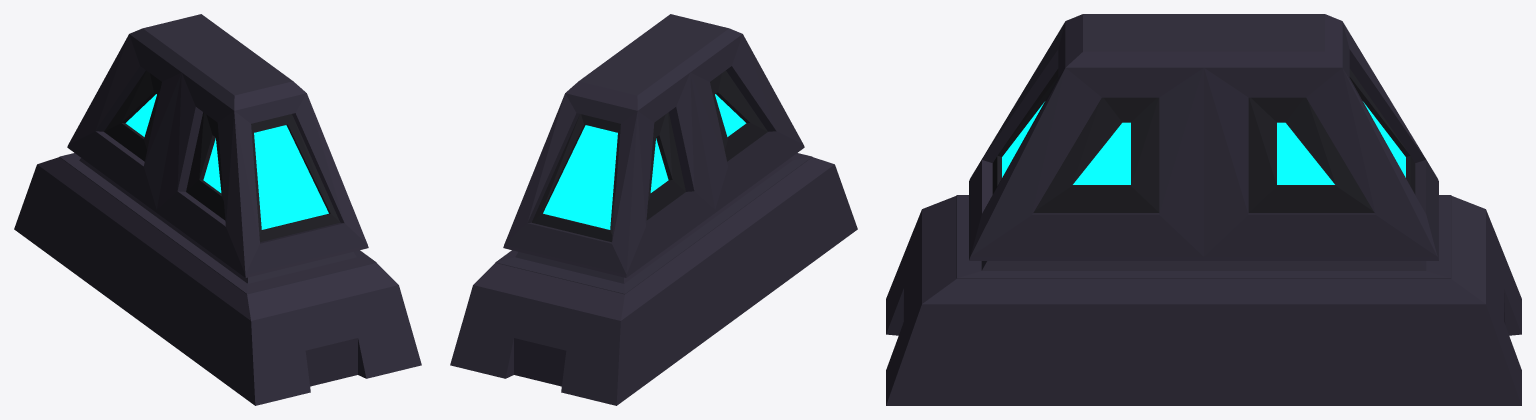
File: SM_Borne_001.fbx
The picture shows the model from 3 angles, left to right: view 1: azimuth 30°, elevation 25°; view 2: azimuth 150°, elevation 25°; view 3: azimuth 270°, elevation 25°; orthographic projection. The views are drawn at different scales.
Parts seen in each view (by area): view 1: Borne; view 2: Borne; view 3: Borne.
Part boxes in pixels (x1=…): Borne: x1=14, y1=14, x2=421, y2=405; Borne: x1=450, y1=14, x2=857, y2=405; Borne: x1=886, y1=14, x2=1521, y2=405.
Bounding box in the file's own units: 39.86 × 55.45 × 100.
